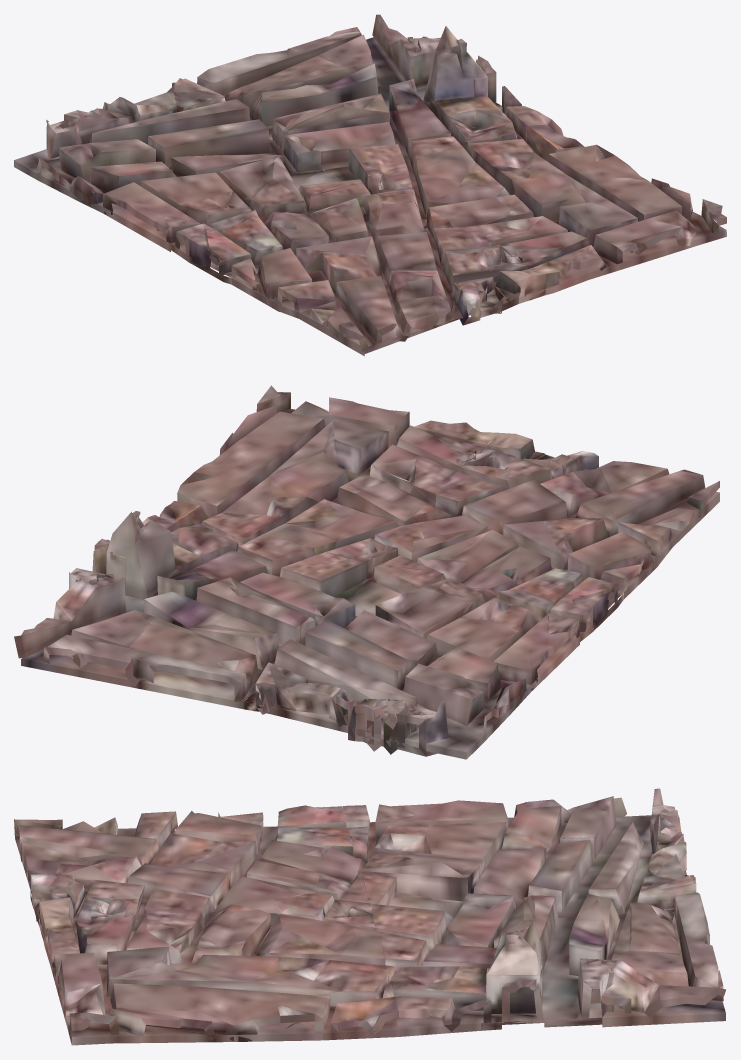
3 views of the same model, one above another, from view 1: azimuth 30°, elevation 25°; view 2: azimuth 150°, elevation 25°; view 3: azimuth 270°, elevation 25° (orthographic). The views are drawn at different scales.
Parts seen in each view (by area): view 1: Mesh_0; view 2: Mesh_0; view 3: Mesh_0.
Part boxes in pixels (<box>): Mesh_0: <box>14,14,726,356</box>; Mesh_0: <box>14,385,719,759</box>; Mesh_0: <box>14,788,725,1045</box>.
Size of the model in its own units: 532 by 118 by 660.
Materials: 2 (2 with a texture image).
